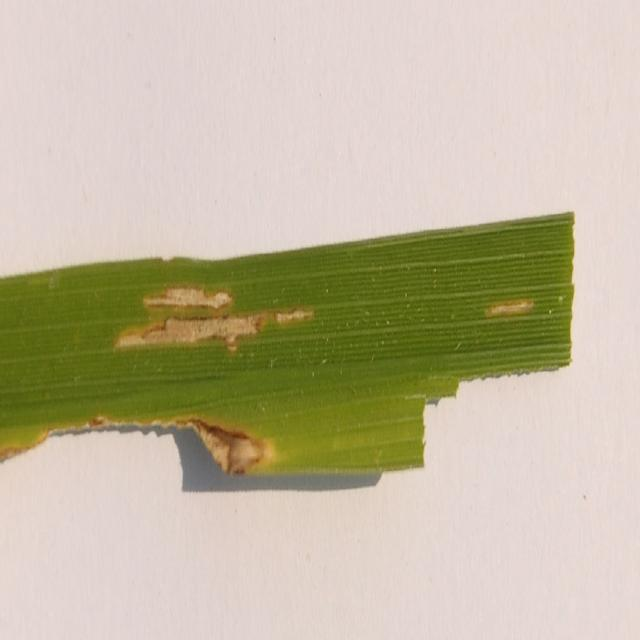Unhealthy: (148, 415, 279, 477), (0, 415, 145, 463), (114, 312, 265, 353), (143, 283, 234, 314), (486, 301, 533, 319), (274, 308, 315, 324)
